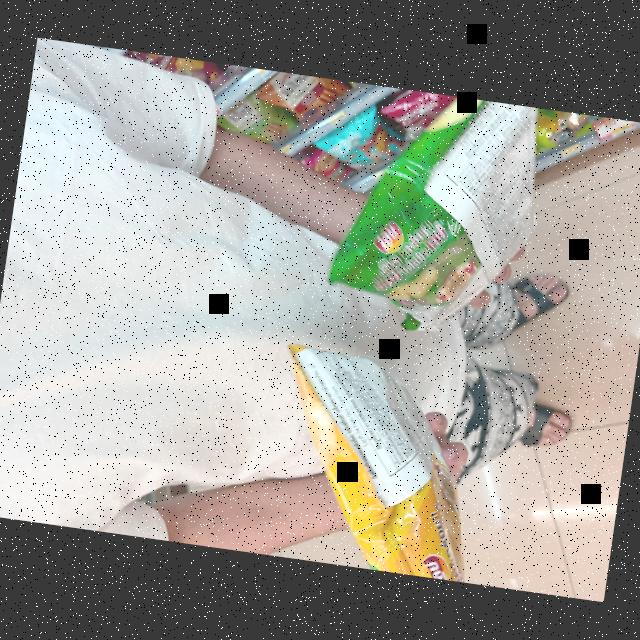snack_bag: (306, 81, 568, 358), (245, 330, 498, 583)
